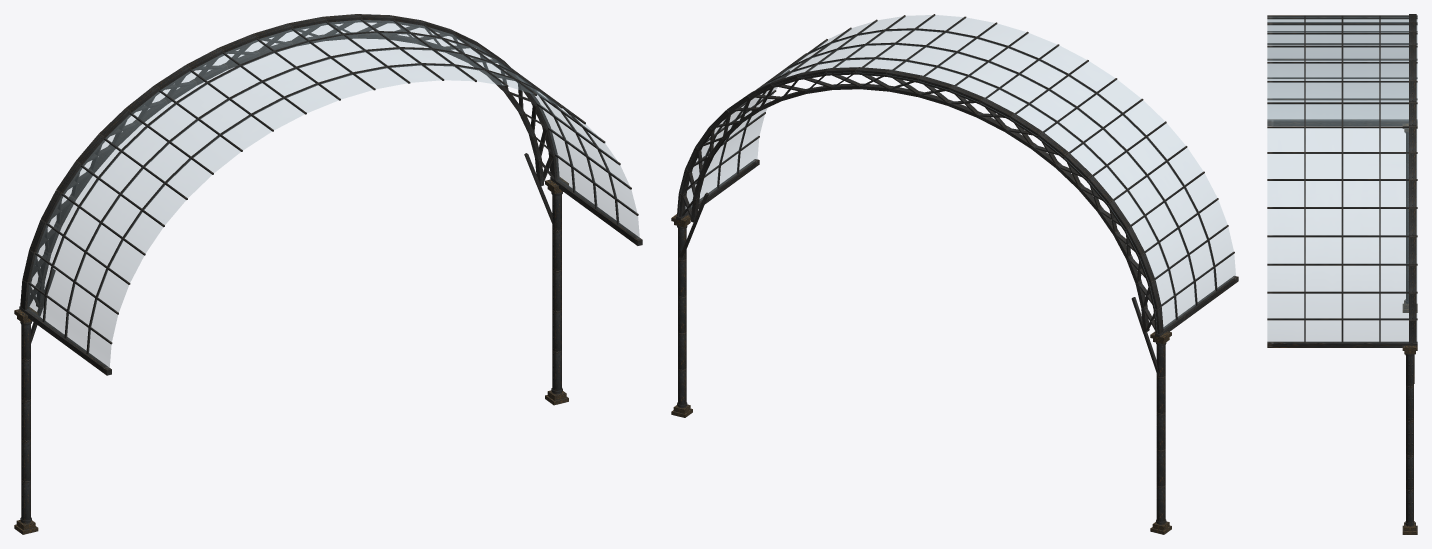
The model's file is shed_bay.glb.
The picture shows the model from 3 angles, left to right: view 1: azimuth 30°, elevation 25°; view 2: azimuth 150°, elevation 25°; view 3: azimuth 270°, elevation 25°; orthographic projection. The views are drawn at different scales.
Parts seen in each view (by area): view 1: glazed_roof, right_rear_column_shaft, left_rear_column_shaft, left_eaves_girder, right_eaves_girder; view 2: glazed_roof, left_rear_column_shaft, right_rear_column_shaft, left_eaves_girder; view 3: glazed_roof, right_rear_column_shaft, right_eaves_girder, left_eaves_girder, left_rear_column_shaft, glazing_bar_20, glazing_bar_22, glazing_bar_23, glazing_bar_10, glazing_bar_15, glazing_bar_16, glazing_bar_21 (+23 smaller).
Part boxes in pixels (box(x1,y1,x2,y2)): glazed_roof: box(27, 20, 639, 369); right_rear_column_shaft: box(552, 193, 561, 394); left_rear_column_shaft: box(21, 322, 30, 523); left_eaves_girder: box(19, 306, 111, 375); right_eaves_girder: box(550, 177, 642, 245); glazed_roof: box(679, 15, 1235, 328); left_rear_column_shaft: box(1156, 345, 1165, 524); right_rear_column_shaft: box(678, 226, 686, 407); left_eaves_girder: box(1155, 276, 1238, 338); glazed_roof: box(1267, 16, 1417, 341); right_rear_column_shaft: box(1406, 355, 1413, 526); right_eaves_girder: box(1267, 341, 1417, 347); left_eaves_girder: box(1267, 119, 1417, 125); left_rear_column_shaft: box(1406, 134, 1408, 304); glazing_bar_20: box(1267, 235, 1417, 237); glazing_bar_22: box(1267, 291, 1417, 293); glazing_bar_23: box(1267, 318, 1417, 320); glazing_bar_10: box(1267, 23, 1417, 25); glazing_bar_15: box(1267, 102, 1417, 104); glazing_bar_16: box(1267, 126, 1417, 128); glazing_bar_21: box(1267, 263, 1417, 265).
Size of the model in its own units: 28.8 by 22.12 by 8.
3 materials, 3 textured.
